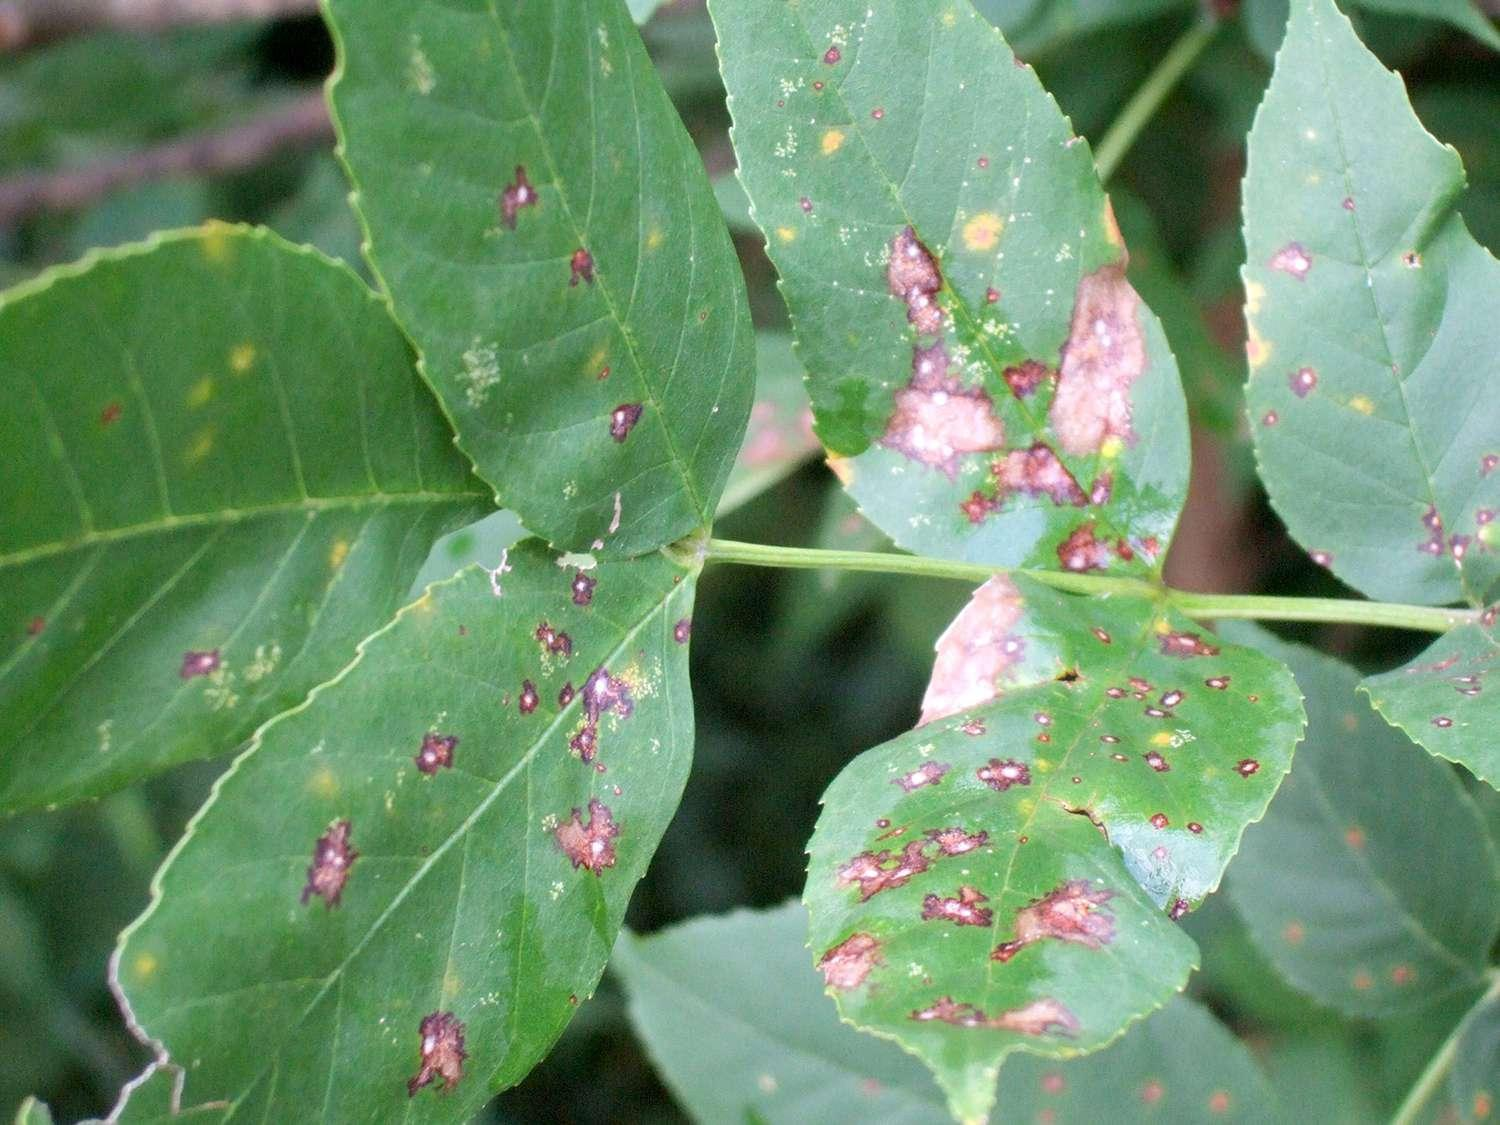black-spot: (844, 742, 1120, 1042), (412, 594, 637, 876)
